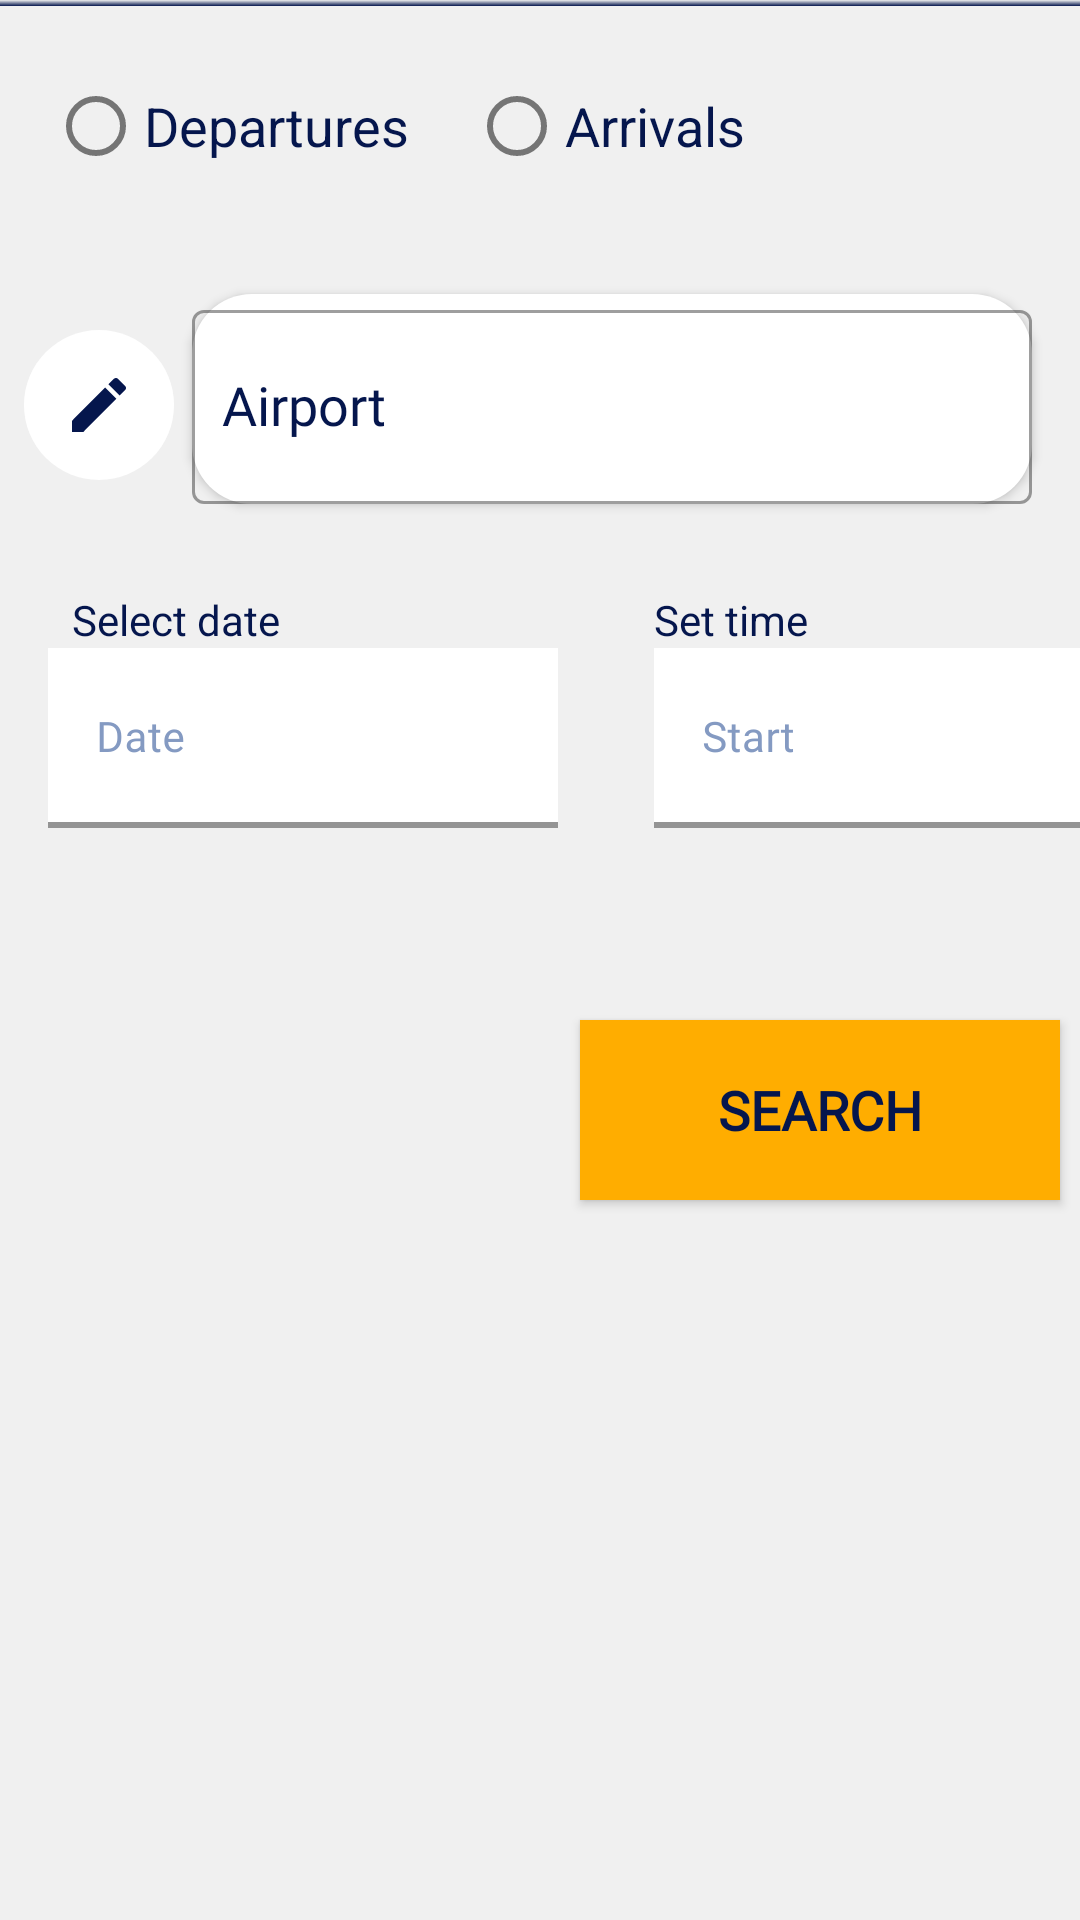

Where icons sit on this 1080×1920 app screen, as (x1, y1, x2, y2):
create: (24, 330, 174, 480)
